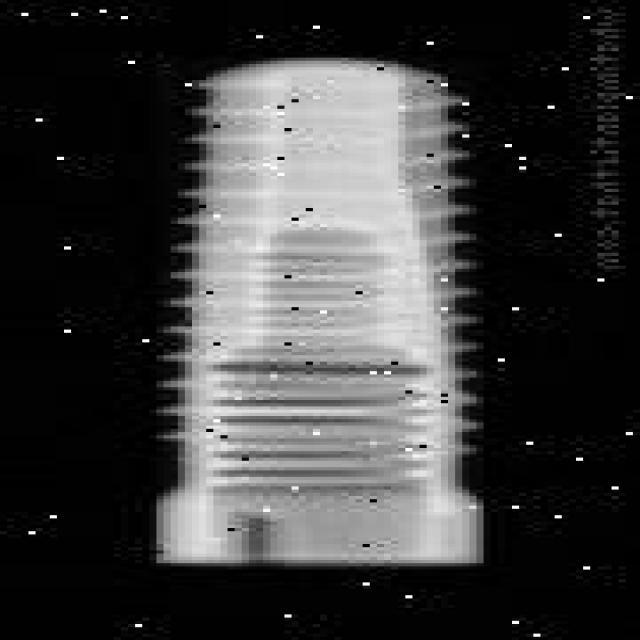Root canal obturation: (151, 56, 484, 564)
